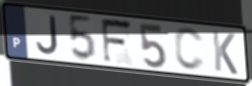5: (66, 12, 98, 64), (137, 20, 169, 70)
C: (173, 26, 207, 73)
F: (99, 17, 135, 66)
J: (35, 15, 61, 57)
K: (210, 29, 240, 77)
